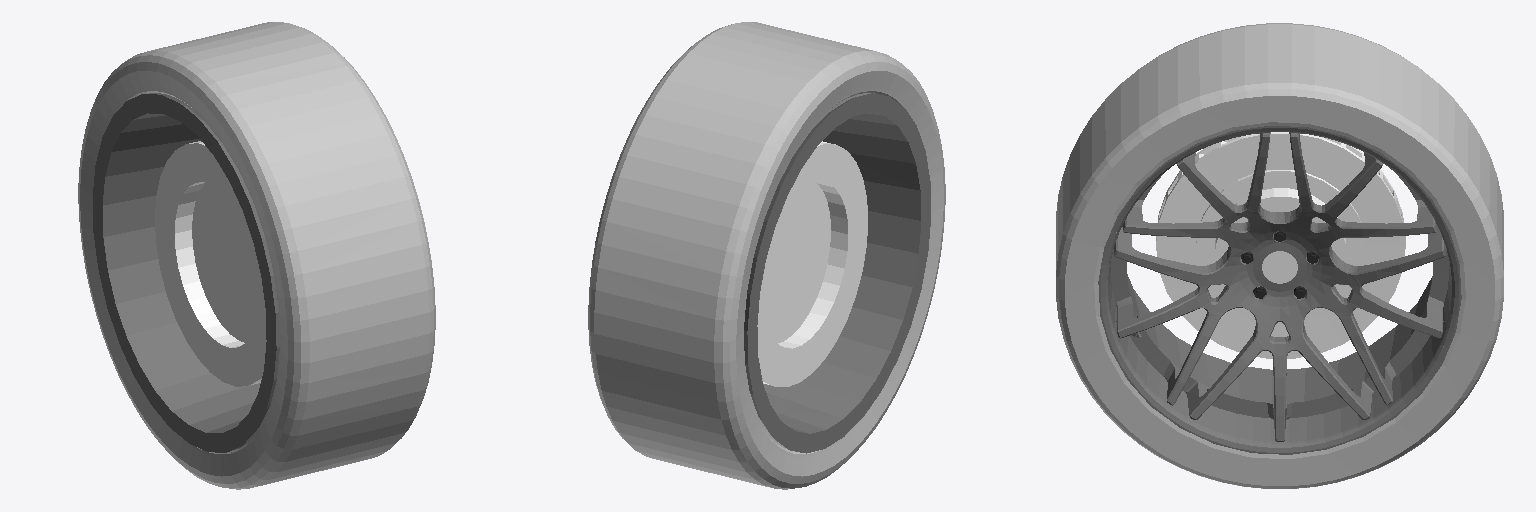
File: llantader.obj
3 renders of one model, left to right at view 1: azimuth 30°, elevation 25°; view 2: azimuth 150°, elevation 25°; view 3: azimuth 270°, elevation 25°, orthographic.
Parts seen in each view (by area): view 1: llantader, wheel; view 2: llantader, wheel; view 3: llantader, wheel.
Part boxes in pixels (x1,y1,x2,y2): llantader: (78, 22, 435, 489); wheel: (155, 141, 266, 386); llantader: (588, 22, 945, 489); wheel: (757, 141, 867, 386); llantader: (1056, 23, 1503, 488); wheel: (1156, 132, 1405, 358).
Bounding box in the file's own units: 6.1 × 16.47 × 16.47.